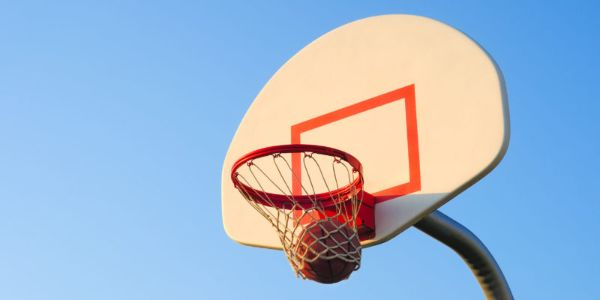baloncesto: (295, 221, 361, 284)
